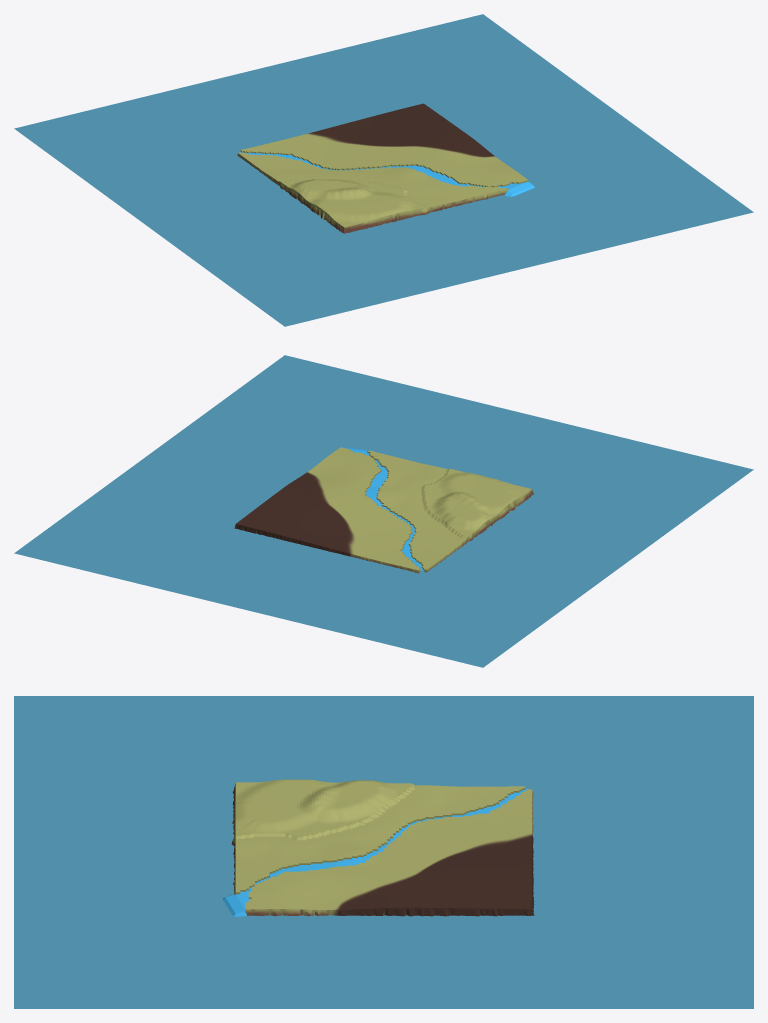
File: map_v0.glb
The picture shows the model from 3 angles, top to bottom: view 1: azimuth 30°, elevation 25°; view 2: azimuth 150°, elevation 25°; view 3: azimuth 270°, elevation 25°; orthographic projection. The views are drawn at different scales.
Visible parts, largest first — view 1: Map; view 2: Map; view 3: Map.
Boxes of the visible parts, x1,y1,x2,y2 form: Map: (14, 14, 753, 326); Map: (14, 355, 753, 667); Map: (14, 696, 753, 1008).
Size of the model in its own units: 499 by 20 by 499.
2 materials, 2 textured.
